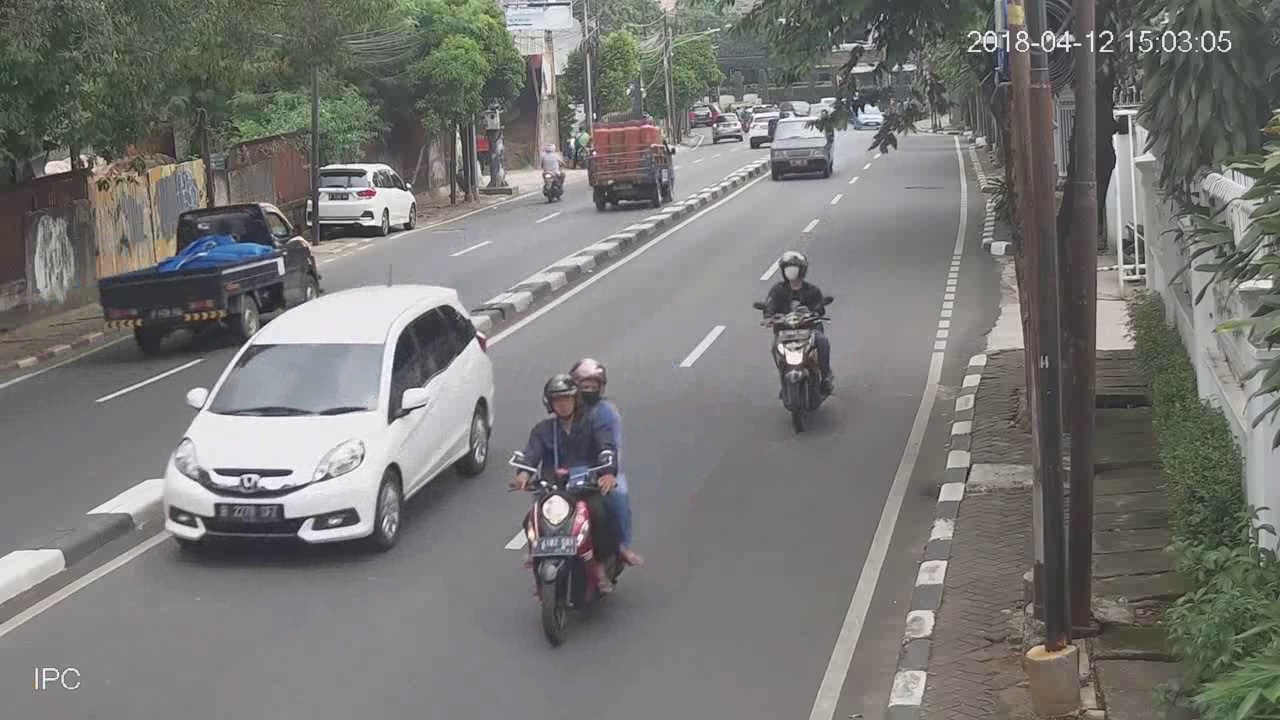car: (159, 281, 495, 556), (305, 159, 421, 238), (769, 114, 833, 179)
motorcycle: (506, 354, 642, 648), (751, 248, 840, 433), (536, 139, 570, 204)
truck: (88, 203, 330, 344), (587, 120, 677, 209)
